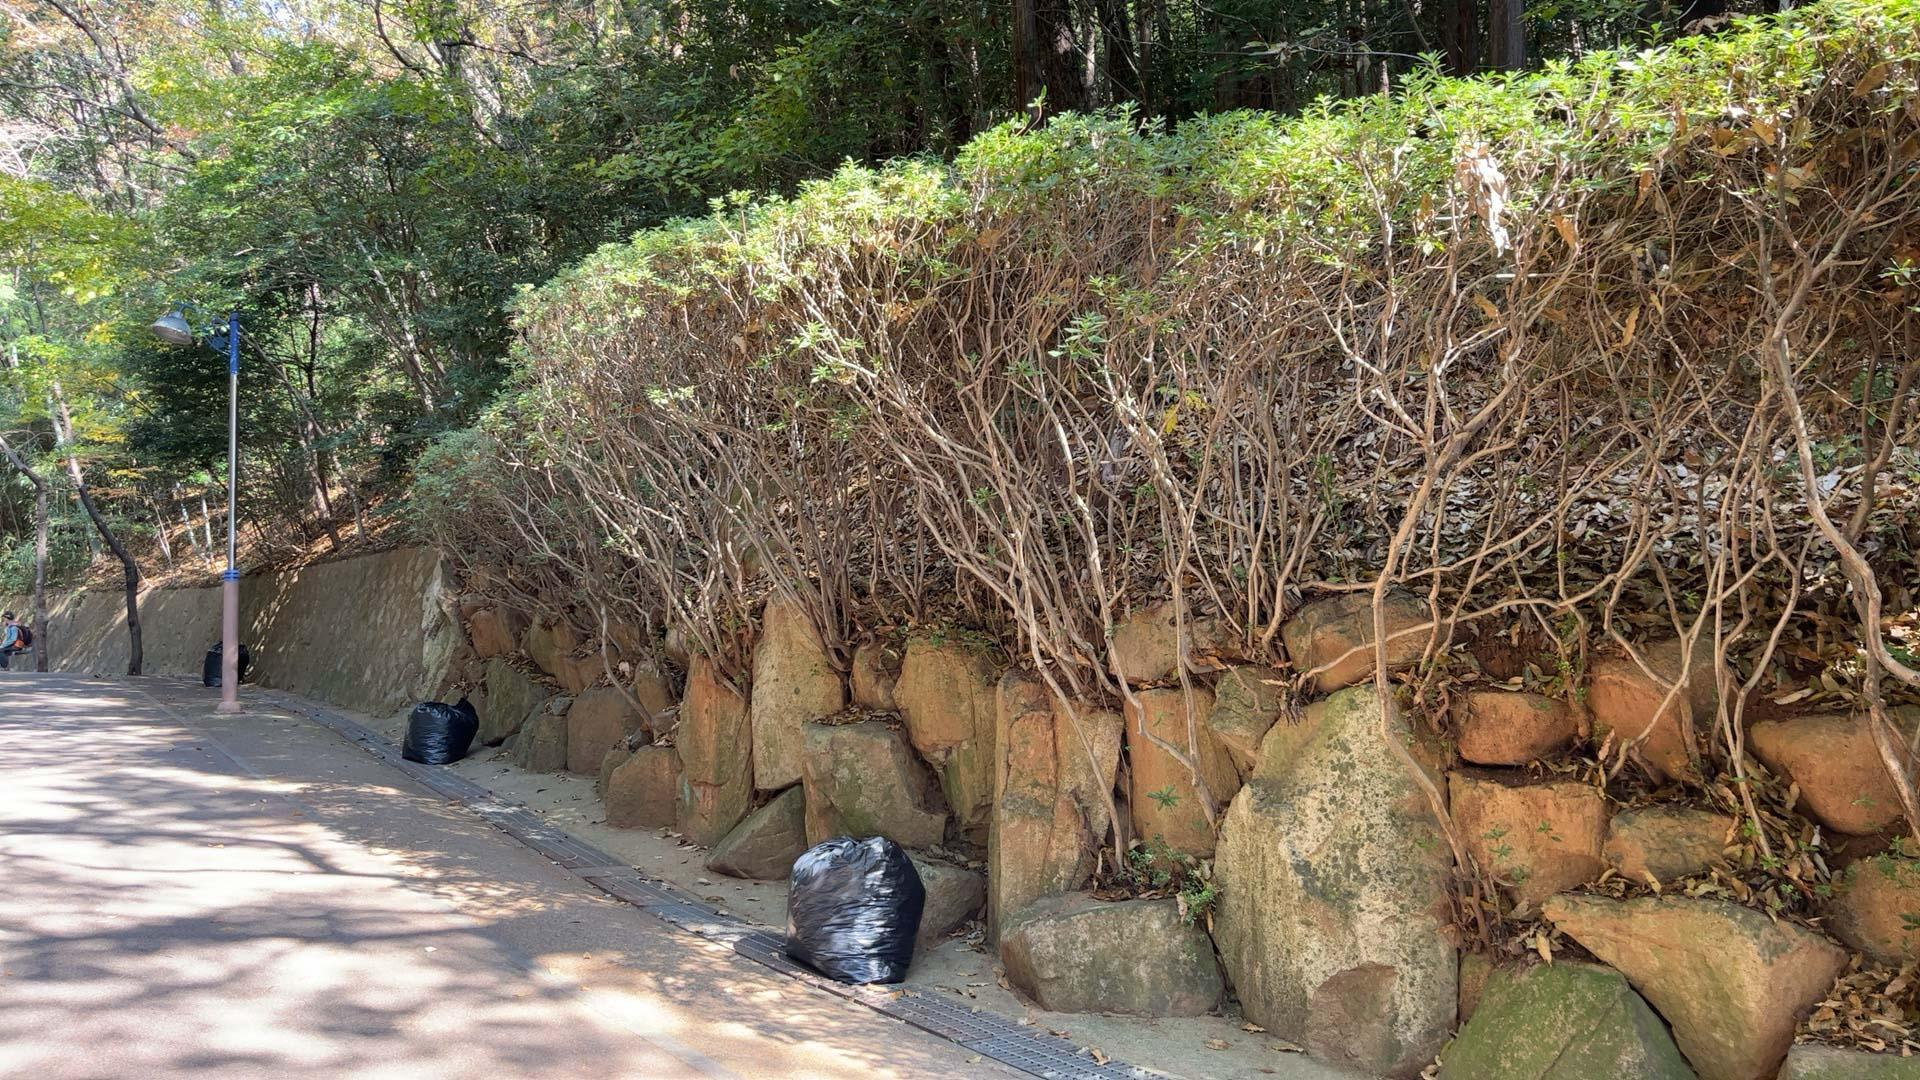black_bag: (401, 691, 481, 773), (199, 640, 249, 688)
white_bag: (775, 825, 926, 993)
